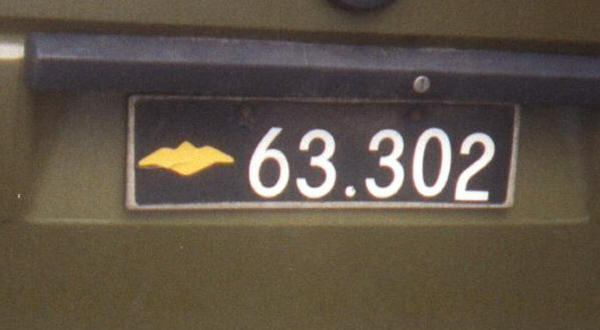license_plate: (127, 92, 518, 210)
